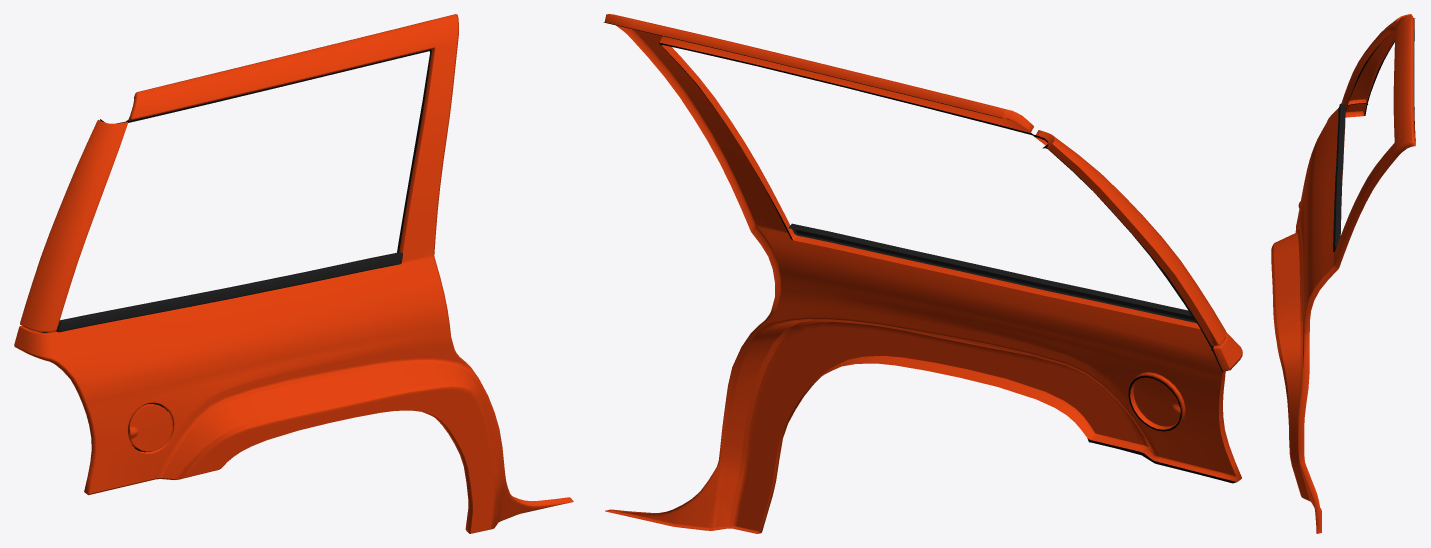
3 renders of one model, left to right at view 1: azimuth 30°, elevation 25°; view 2: azimuth 150°, elevation 25°; view 3: azimuth 270°, elevation 25°, orthographic. The views are drawn at different scales.
Parts seen in each view (by area): view 1: U843_9A_401B_R_U843_9A_401B_R_1_DaS, U843_9A_401B_R_U843_9A_401B_R_1_DaS_E, U843_9A_401B_R_U843_9A_401B_R_2_DaS, U843_9A_401B_R_3_D_U843_9A_401B_R, U843_9A_401B_R_U843_9A_401B_R_4_D; view 2: U843_9A_401B_R_U843_9A_401B_R_1_DaS, U843_9A_401B_R_U843_9A_401B_R_1_DaS_E, U843_9A_401B_R_U843_9A_401B_R_2_DaS, U843_9A_401B_R_3_D_U843_9A_401B_R, U843_9A_401B_R_U843_9A_401B_R_4_D; view 3: U843_9A_401B_R_U843_9A_401B_R_1_DaS, U843_9A_401B_R_U843_9A_401B_R_1_DaS_E, U843_9A_401B_R_U843_9A_401B_R_2_DaS, U843_9A_401B_R_3_D_U843_9A_401B_R, U843_9A_401B_R_U843_9A_401B_R_4_D, U843_9A_401B_R_U843_9A_401B_R_2_DaS_E.
Part boxes in pixels (x1,y1,x2,y2): U843_9A_401B_R_U843_9A_401B_R_1_DaS: (14,14,572,533); U843_9A_401B_R_U843_9A_401B_R_1_DaS_E: (14,14,573,533); U843_9A_401B_R_U843_9A_401B_R_2_DaS: (20,120,127,331); U843_9A_401B_R_3_D_U843_9A_401B_R: (55,252,402,332); U843_9A_401B_R_U843_9A_401B_R_4_D: (41,49,431,332); U843_9A_401B_R_U843_9A_401B_R_1_DaS: (609,14,1242,532); U843_9A_401B_R_U843_9A_401B_R_1_DaS_E: (604,14,1242,533); U843_9A_401B_R_U843_9A_401B_R_2_DaS: (1035,130,1225,345); U843_9A_401B_R_3_D_U843_9A_401B_R: (788,223,1196,323); U843_9A_401B_R_U843_9A_401B_R_4_D: (659,42,1236,483); U843_9A_401B_R_U843_9A_401B_R_1_DaS: (1273,15,1411,507); U843_9A_401B_R_U843_9A_401B_R_1_DaS_E: (1271,15,1415,533); U843_9A_401B_R_U843_9A_401B_R_2_DaS: (1341,14,1411,108); U843_9A_401B_R_3_D_U843_9A_401B_R: (1333,103,1345,252); U843_9A_401B_R_U843_9A_401B_R_4_D: (1345,18,1415,115); U843_9A_401B_R_U843_9A_401B_R_2_DaS_E: (1342,14,1410,103).
Size of the model in its own units: 144 by 119 by 42.39.
